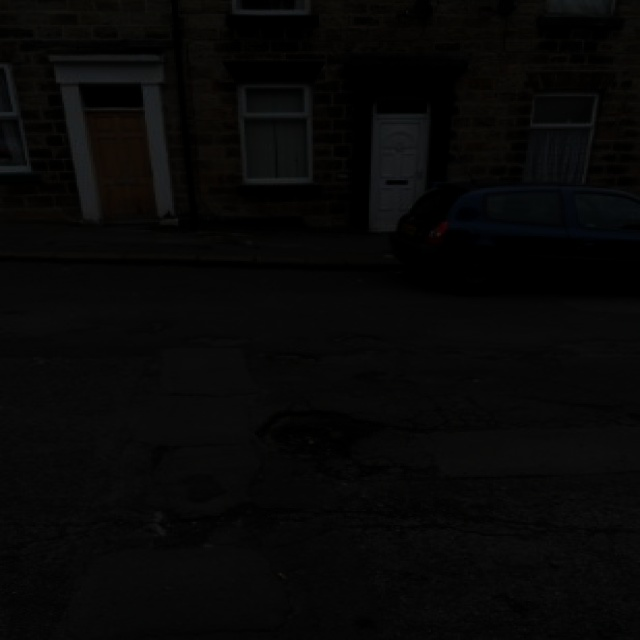Pothole: (245, 398, 388, 473)
